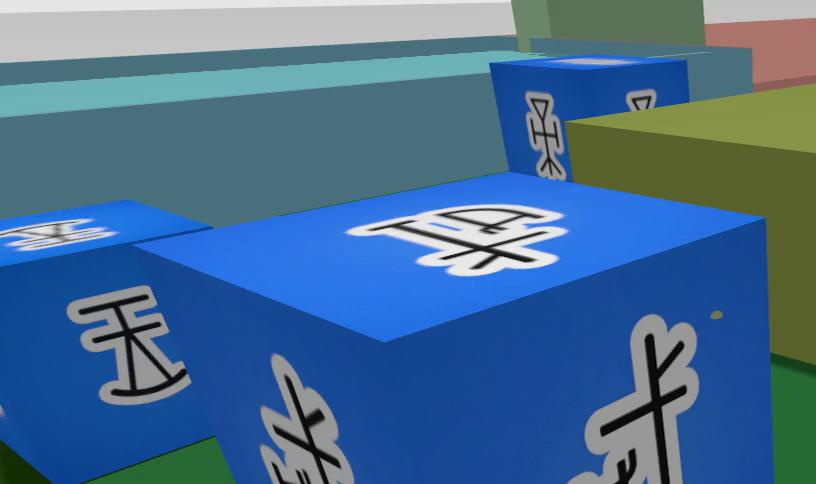KFS_REAL: (143, 173, 772, 484), (0, 200, 210, 484), (491, 55, 690, 179), (567, 314, 699, 484), (347, 206, 566, 277), (66, 286, 189, 404), (260, 354, 354, 484), (0, 219, 117, 250), (527, 92, 567, 180)
